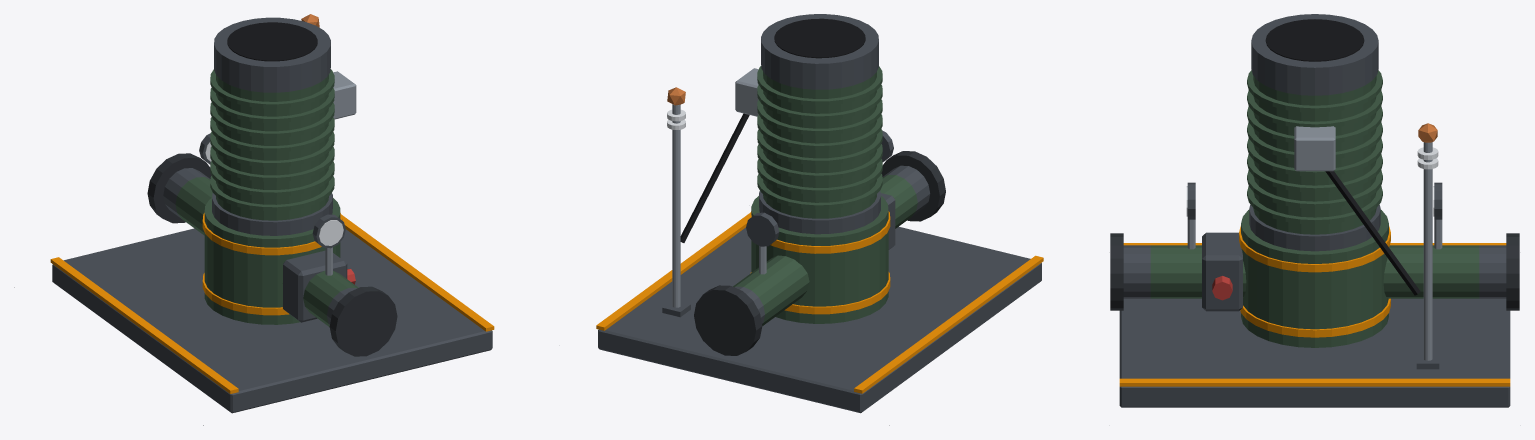
Rendered from surpresseur_t2.glb.
3 renders of one model, left to right at view 1: azimuth 30°, elevation 25°; view 2: azimuth 150°, elevation 25°; view 3: azimuth 270°, elevation 25°, orthographic. The views are drawn at different scales.
Parts seen in each view (by area): view 1: pieces_acier_sombre.050, pieces_vert_fonce.002, moteur.004, pompe_corps.002, pieces_rive_t2.016, pieces_fonte.008, pieces_noir.012, pieces_acier.044, pieces_blanc.006; view 2: pieces_acier_sombre.050, pieces_vert_fonce.002, moteur.004, pompe_corps.002, pieces_rive_t2.016, pieces_fonte.008, pieces_noir.012, pieces_acier.044, manometre_amont.002; view 3: pieces_acier_sombre.050, pieces_vert_fonce.002, pompe_corps.002, moteur.004, pieces_rive_t2.016, pieces_noir.012, pieces_acier.044, pieces_fonte.008, pieces_blanc.006, pieces_rouge.014.
Boxes of the visible parts, x1=… form: pieces_acier_sombre.050: x1=52, y1=17, x2=492, y2=413; pieces_vert_fonce.002: x1=175, y1=69, x2=358, y2=326; moteur.004: x1=216, y1=74, x2=328, y2=220; pompe_corps.002: x1=204, y1=197, x2=340, y2=324; pieces_rive_t2.016: x1=50, y1=213, x2=494, y2=393; pieces_fonte.008: x1=147, y1=153, x2=397, y2=356; pieces_noir.012: x1=227, y1=22, x2=317, y2=61; pieces_acier.044: x1=325, y1=71, x2=356, y2=275; pieces_blanc.006: x1=205, y1=142, x2=343, y2=245; pieces_acier_sombre.050: x1=598, y1=14, x2=1041, y2=413; pieces_vert_fonce.002: x1=733, y1=66, x2=917, y2=325; moteur.004: x1=763, y1=71, x2=876, y2=218; pompe_corps.002: x1=751, y1=196, x2=888, y2=323; pieces_rive_t2.016: x1=596, y1=211, x2=1043, y2=393; pieces_fonte.008: x1=694, y1=151, x2=945, y2=355; pieces_noir.012: x1=680, y1=18, x2=865, y2=242; pieces_acier.044: x1=672, y1=68, x2=766, y2=307; manometre_amont.002: x1=746, y1=212, x2=779, y2=246; pieces_acier_sombre.050: x1=1119, y1=14, x2=1510, y2=407; pieces_vert_fonce.002: x1=1150, y1=70, x2=1479, y2=298; pompe_corps.002: x1=1241, y1=209, x2=1388, y2=347; moteur.004: x1=1253, y1=76, x2=1376, y2=234; pieces_rive_t2.016: x1=1119, y1=226, x2=1510, y2=386; pieces_noir.012: x1=1265, y1=19, x2=1420, y2=295; pieces_acier.044: x1=1187, y1=126, x2=1442, y2=360; pieces_fonte.008: x1=1110, y1=233, x2=1519, y2=310; pieces_blanc.006: x1=1186, y1=147, x2=1438, y2=216; pieces_rouge.014: x1=1212, y1=276, x2=1232, y2=300.
Bounding box in the file's own units: 1 × 0.8025 × 1.
